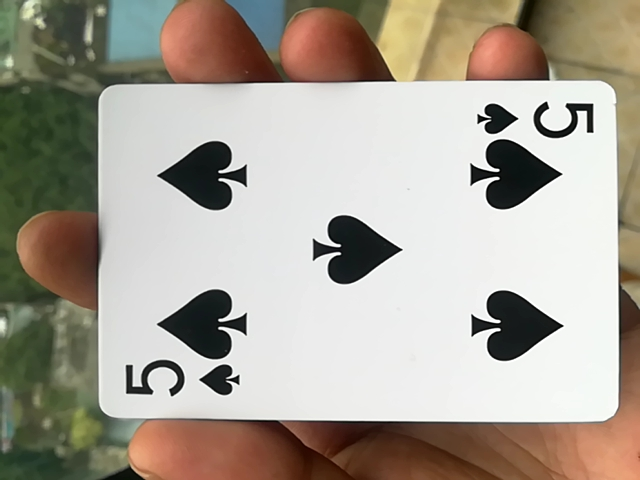ht 5: (78, 85, 622, 439)
